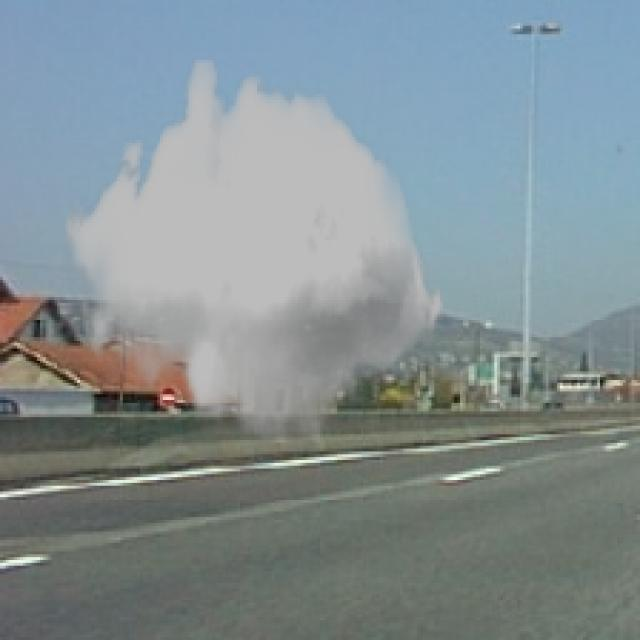Smoke: (63, 60, 446, 443)
